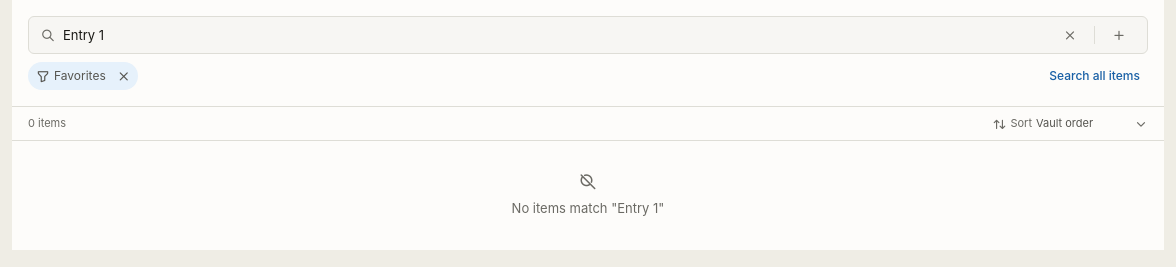
Test case: ItemList › offers to search all items when the current filter hides a match
Click the button "Search all items" at (1095, 76), box x1=1041 y1=63 x2=1148 y2=89
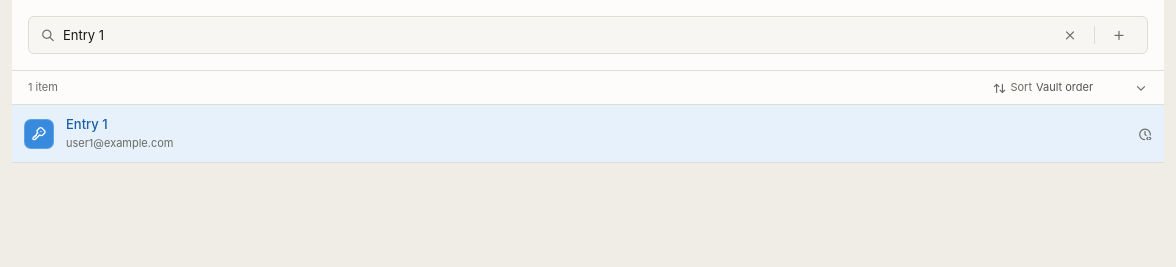
Now the option "Entry 1 user1@example.com" is shown, box x1=12 y1=105 x2=1164 y2=163
